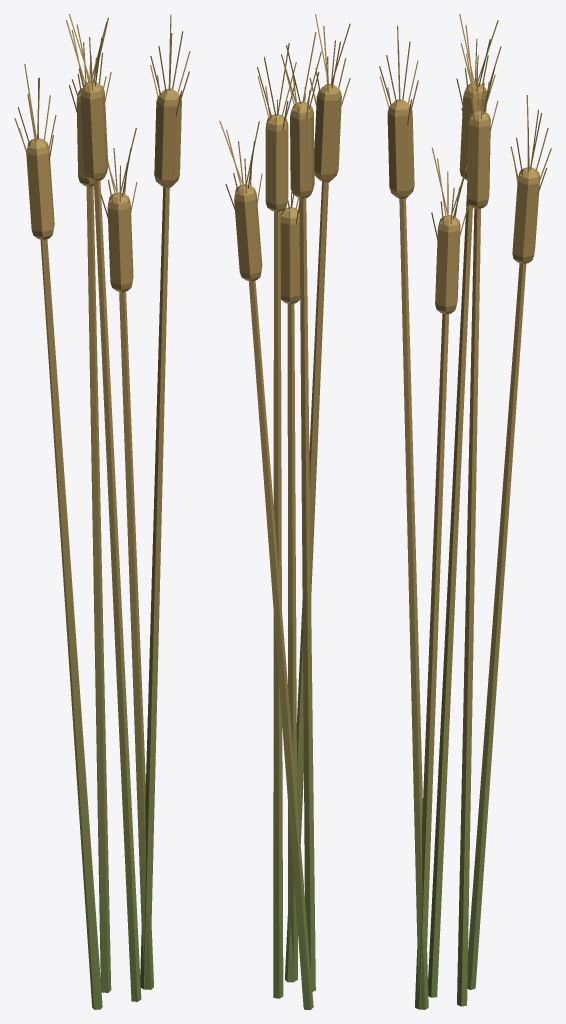
File: wheat.glb
The picture shows the model from 3 angles, left to right: view 1: azimuth 90°, elevation 25°; view 2: azimuth 150°, elevation 25°; view 3: azimuth 270°, elevation 25°; orthographic projection.
Parts seen in each view (by area): view 1: wheat; view 2: wheat; view 3: wheat.
Part boxes in pixels (x1,y1,x2,y2): wheat: (14, 14, 190, 1009); wheat: (219, 14, 350, 1009); wheat: (379, 14, 551, 1009).
Size of the model in its own units: 0.0871 by 1.19 by 0.1912.
